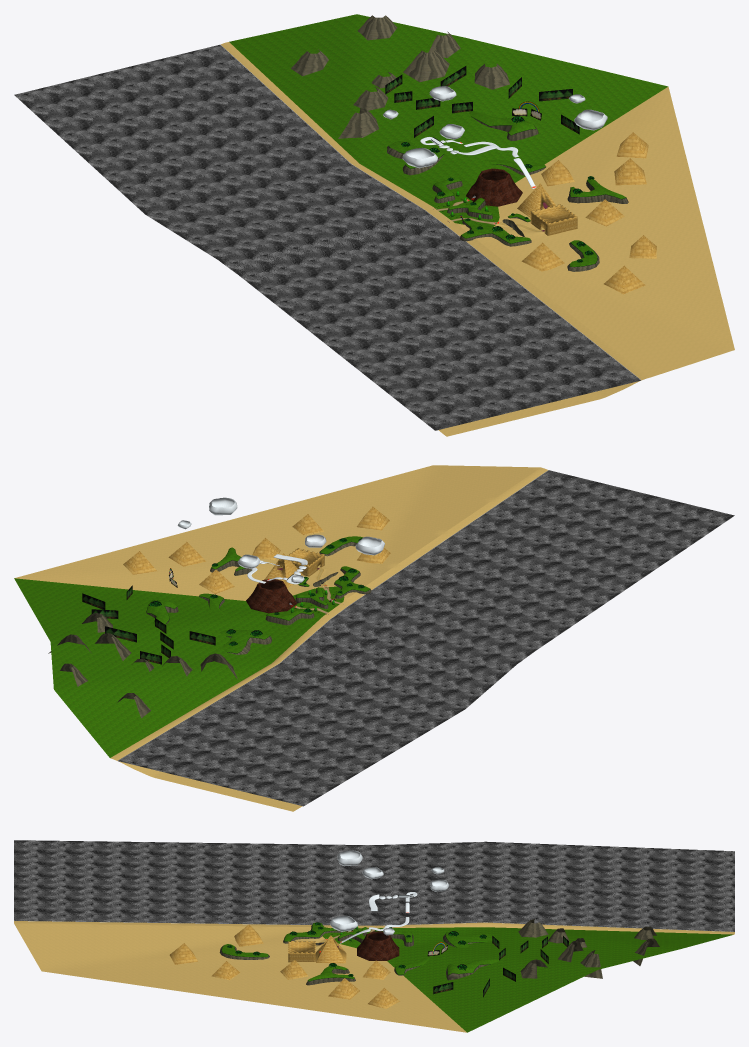
3 renders of one model, top to bottom at view 1: azimuth 30°, elevation 25°; view 2: azimuth 150°, elevation 25°; view 3: azimuth 270°, elevation 25°, orthographic. The views are drawn at different scales.
Parts seen in each view (by area): view 1: WaterMesh.001, SandMeshMesh, GrassMeshMesh, RockWallMesh, PyramidMesh, BGTreesMesh, CloudsMesh, VolcanoMesh, WaterEdgeMesh; view 2: WaterMesh.001, SandMeshMesh, GrassMeshMesh, PyramidMesh, RockWallMesh, BGTreesMesh, CloudsMesh, VolcanoMesh, WaterEdgeMesh; view 3: WaterMesh.001, SandMeshMesh, GrassMeshMesh, PyramidMesh, RockWallMesh, CloudsMesh, BGTreesMesh, VolcanoMesh, WaterEdgeMesh.
Boxes of the visible parts, box(x1,y1,x2,y2) form: WaterMesh.001: box(14, 45, 640, 430); SandMeshMesh: box(221, 42, 734, 436); GrassMeshMesh: box(229, 14, 667, 266); RockWallMesh: box(291, 15, 628, 271); PyramidMesh: box(517, 132, 656, 294); BGTreesMesh: box(385, 66, 626, 267); CloudsMesh: box(383, 86, 607, 188); VolcanoMesh: box(466, 168, 522, 206); WaterEdgeMesh: box(219, 44, 641, 380); WaterMesh.001: box(118, 470, 734, 806); SandMeshMesh: box(14, 465, 547, 811); GrassMeshMesh: box(14, 536, 369, 757); PyramidMesh: box(123, 506, 390, 593); RockWallMesh: box(48, 542, 371, 718); BGTreesMesh: box(82, 538, 370, 664); CloudsMesh: box(177, 497, 384, 584); VolcanoMesh: box(246, 579, 297, 613); WaterEdgeMesh: box(117, 470, 548, 760); WaterMesh.001: box(14, 840, 734, 931); SandMeshMesh: box(14, 921, 734, 1032); GrassMeshMesh: box(222, 922, 733, 1032); PyramidMesh: box(169, 924, 399, 1008); RockWallMesh: box(219, 919, 659, 985); CloudsMesh: box(330, 850, 449, 943); BGTreesMesh: box(221, 922, 568, 997); VolcanoMesh: box(357, 931, 399, 960); WaterEdgeMesh: box(14, 920, 734, 931).
Bounding box in the file's own units: 453928 × 76354 × 685168.
Materials: 25 (25 with a texture image).
